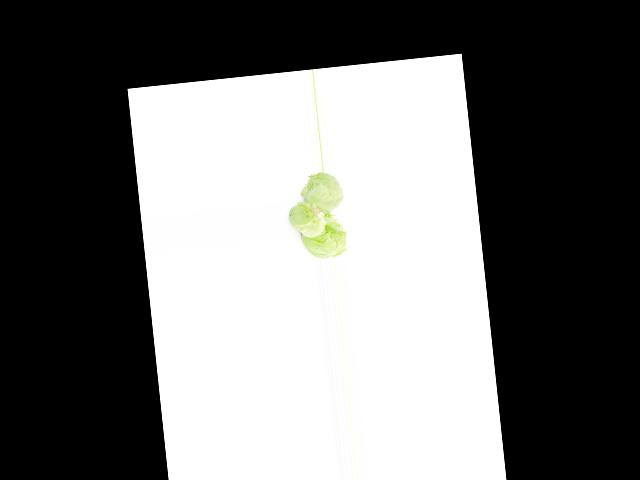lettuce: (303, 217, 346, 258)
